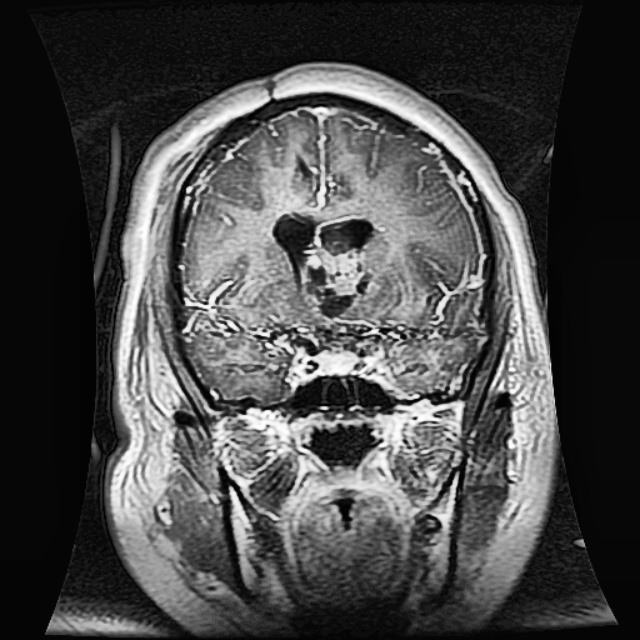Meningioma: (268, 212, 390, 328)
